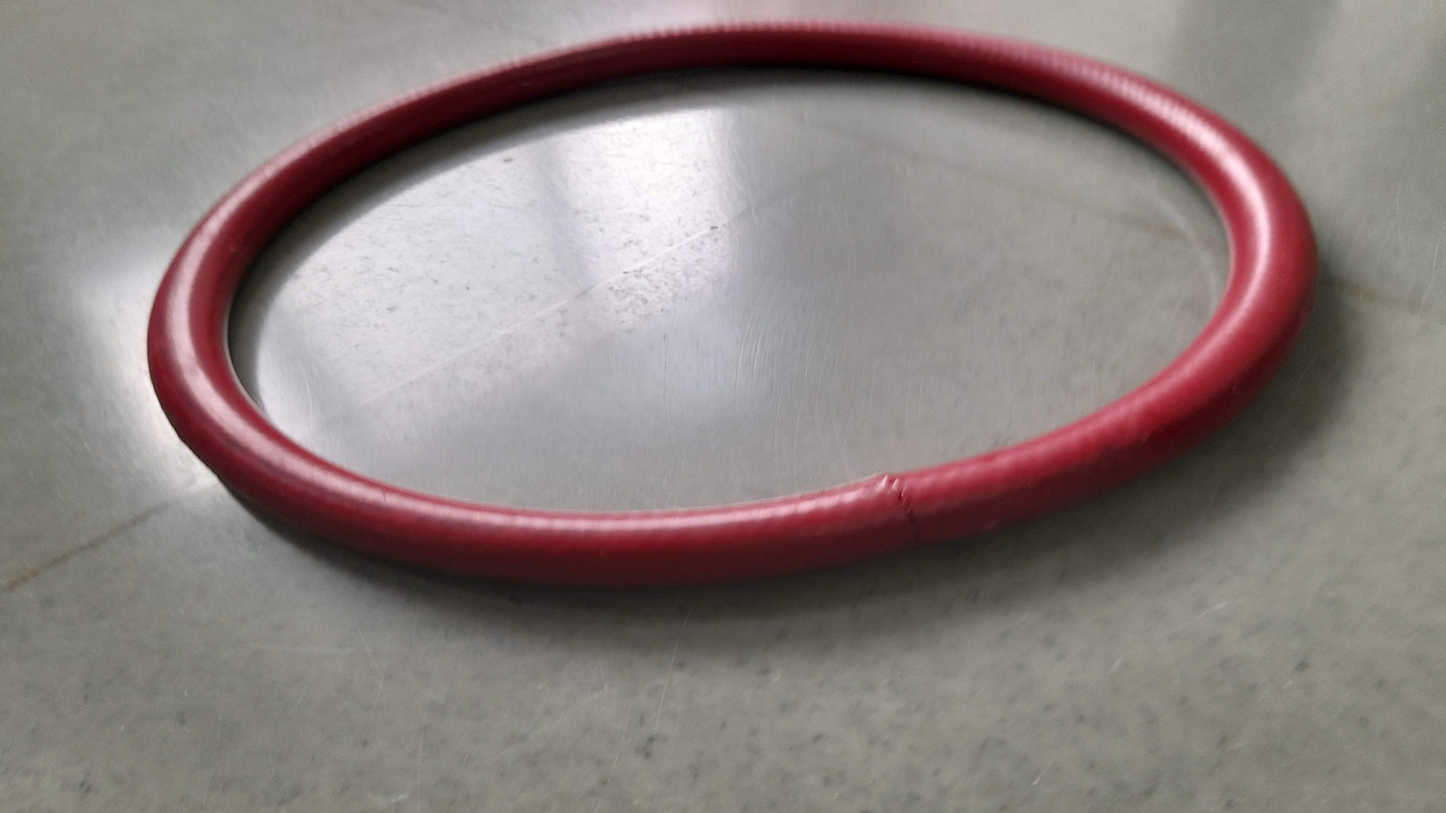Red ring: (143, 17, 1313, 577)
